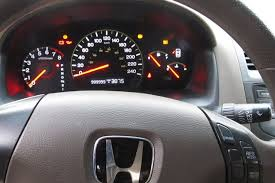Digital_Meter: (85, 77, 126, 87)
